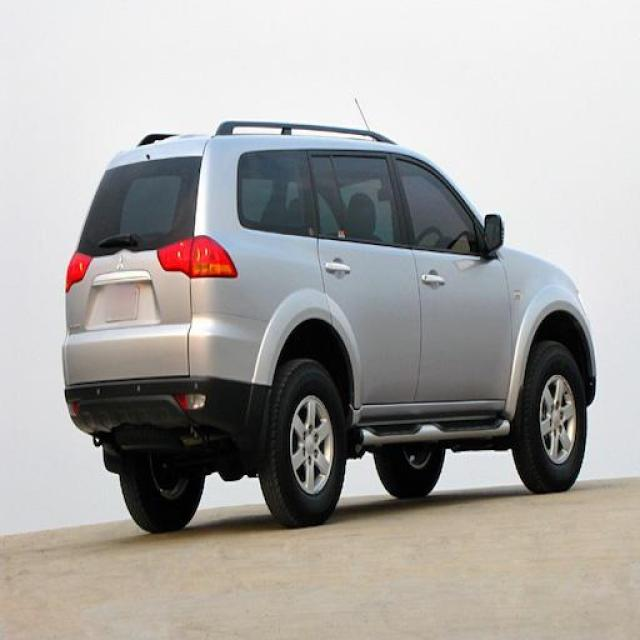back_glass: (78, 157, 202, 257)
back_left_light: (64, 249, 94, 292)
back_right_door: (307, 150, 421, 407)
back_right_light: (158, 235, 238, 279)
front_right_door: (390, 152, 513, 403)
right_mirror: (483, 212, 504, 258)
trunk: (66, 237, 196, 387)
wheel: (261, 340, 587, 526), (120, 475, 206, 534), (374, 449, 446, 501)
